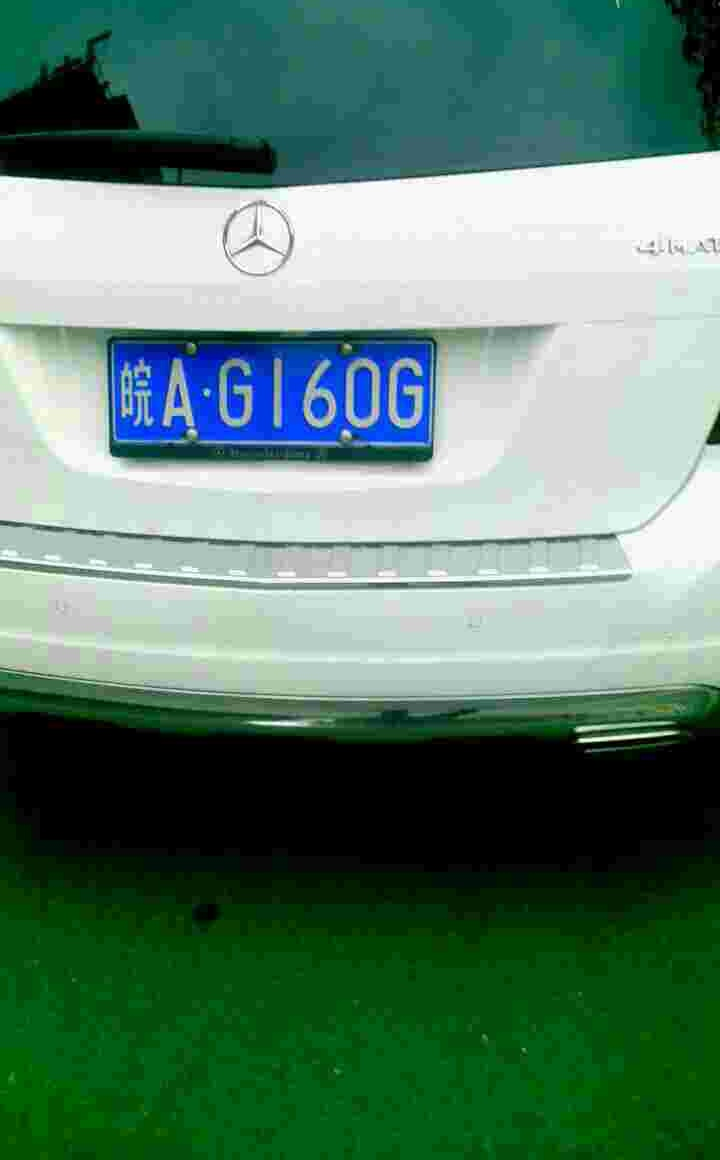license_plate: (114, 331, 459, 447)
